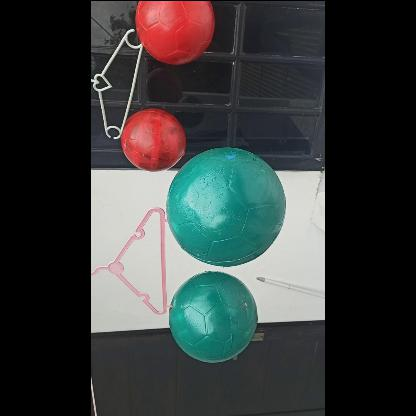red_ball: (136, 1, 215, 62), (121, 108, 185, 172)
